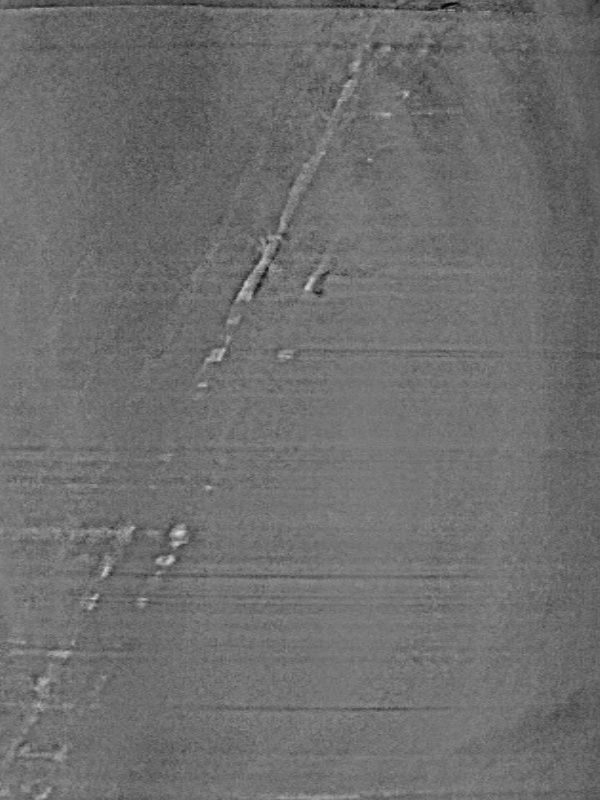splice_vulcanized: (4, 10, 437, 800)
